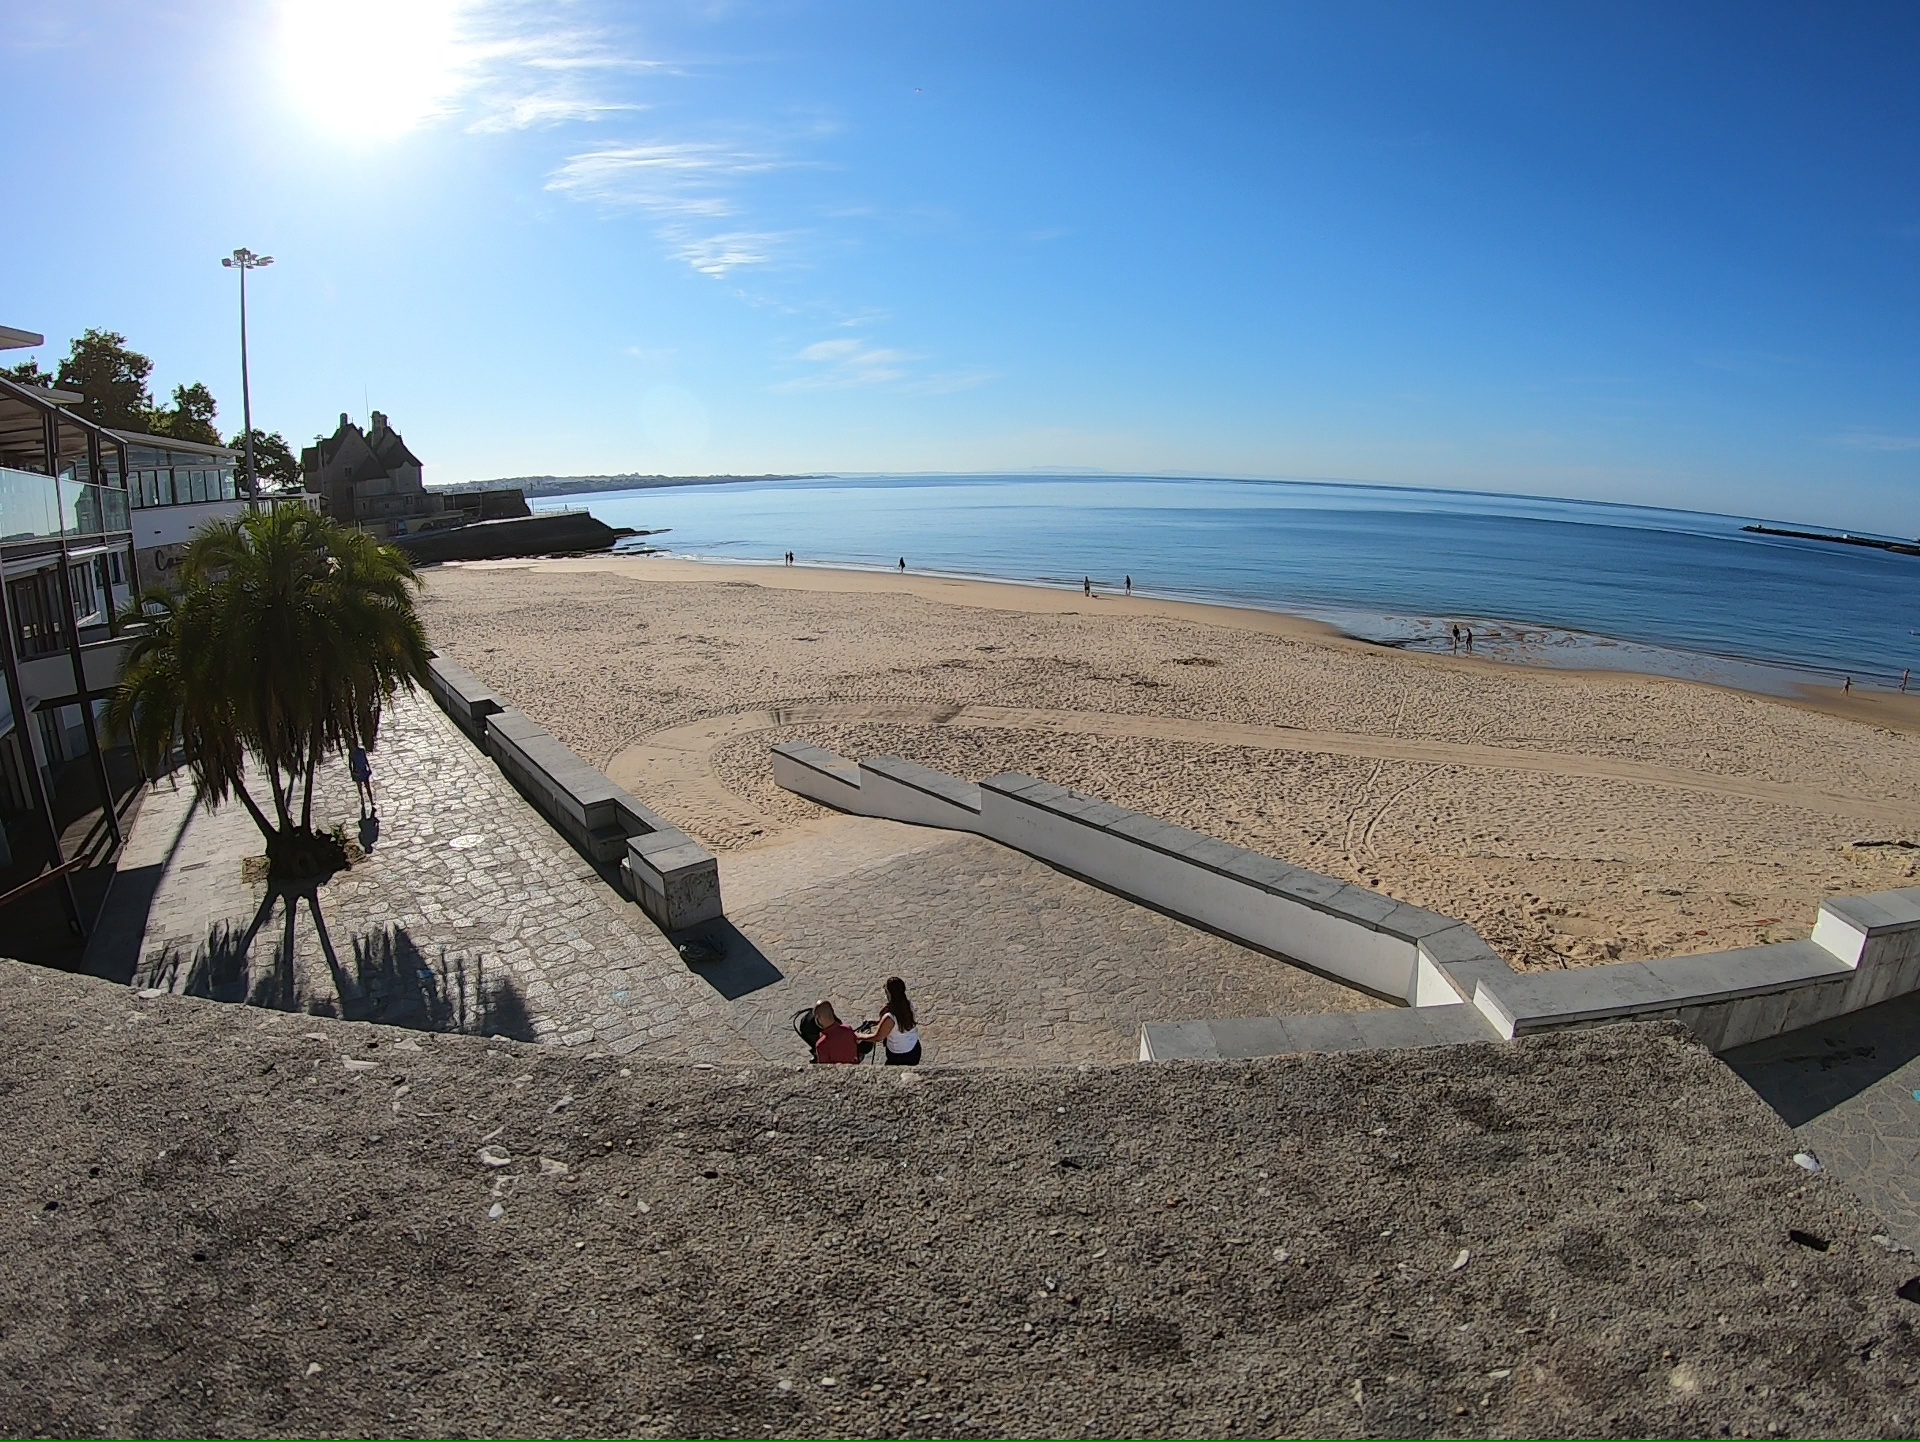person: (864, 974, 923, 1062), (793, 997, 858, 1064), (1450, 622, 1461, 654), (1464, 625, 1475, 655), (1081, 575, 1093, 597), (1122, 574, 1132, 594), (783, 549, 794, 567), (898, 556, 906, 574)
